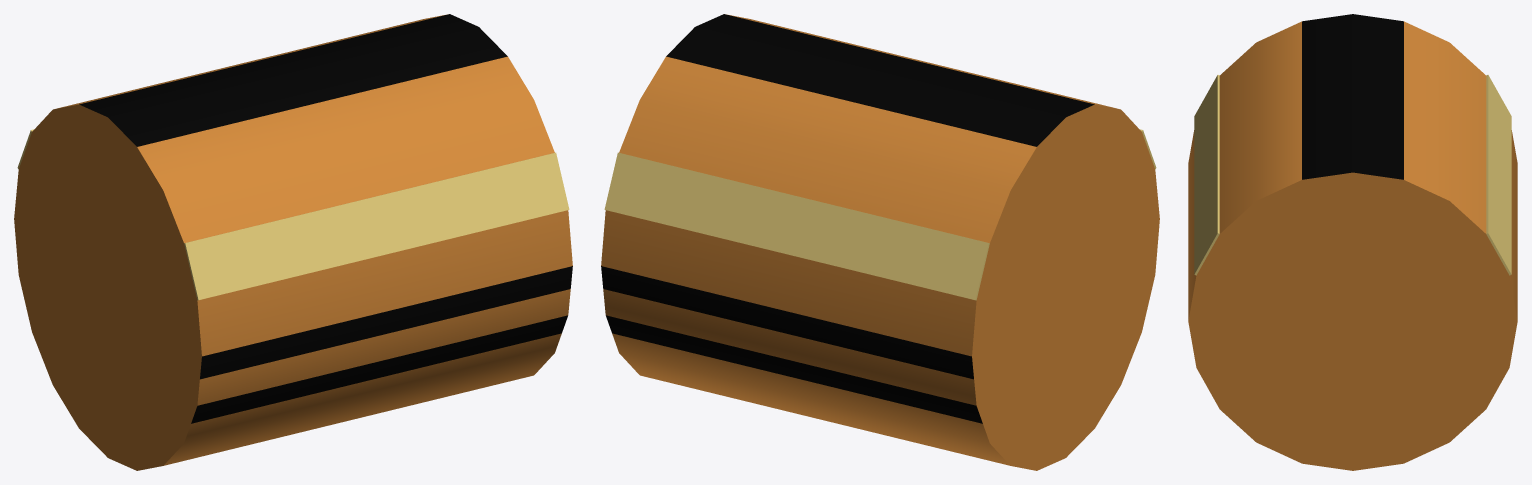
The model's file is br-m-pillar-hori-orange.fbx.
The picture shows the model from 3 angles, left to right: view 1: azimuth 30°, elevation 25°; view 2: azimuth 150°, elevation 25°; view 3: azimuth 270°, elevation 25°; orthographic projection. The views are drawn at different scales.
Parts seen in each view (by area): view 1: pillar_hori_orange; view 2: pillar_hori_orange; view 3: pillar_hori_orange.
Boxes of the visible parts, left/top/right/bottom form: pillar_hori_orange: left=14, top=14, right=572, bottom=470; pillar_hori_orange: left=601, top=14, right=1159, bottom=470; pillar_hori_orange: left=1188, top=14, right=1517, bottom=470.
Bounding box in the file's own units: 1 × 0.8776 × 0.8776.
